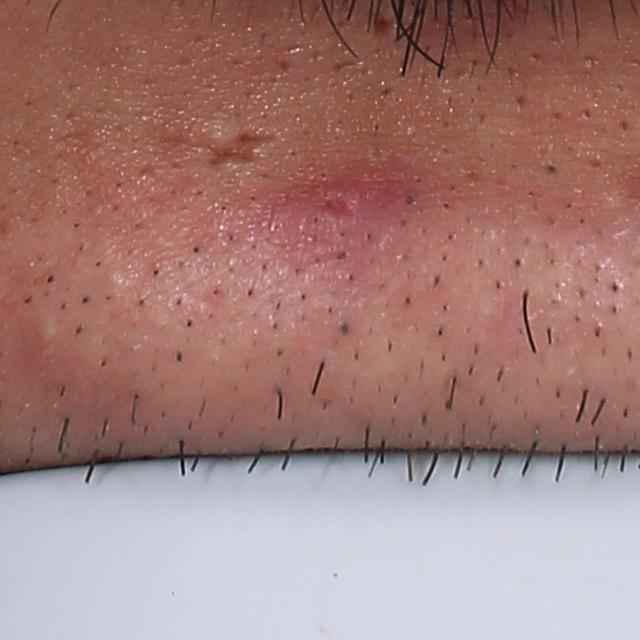atrophic_scar: (214, 128, 287, 167)
hypertrophic_scar: (202, 119, 241, 148)
